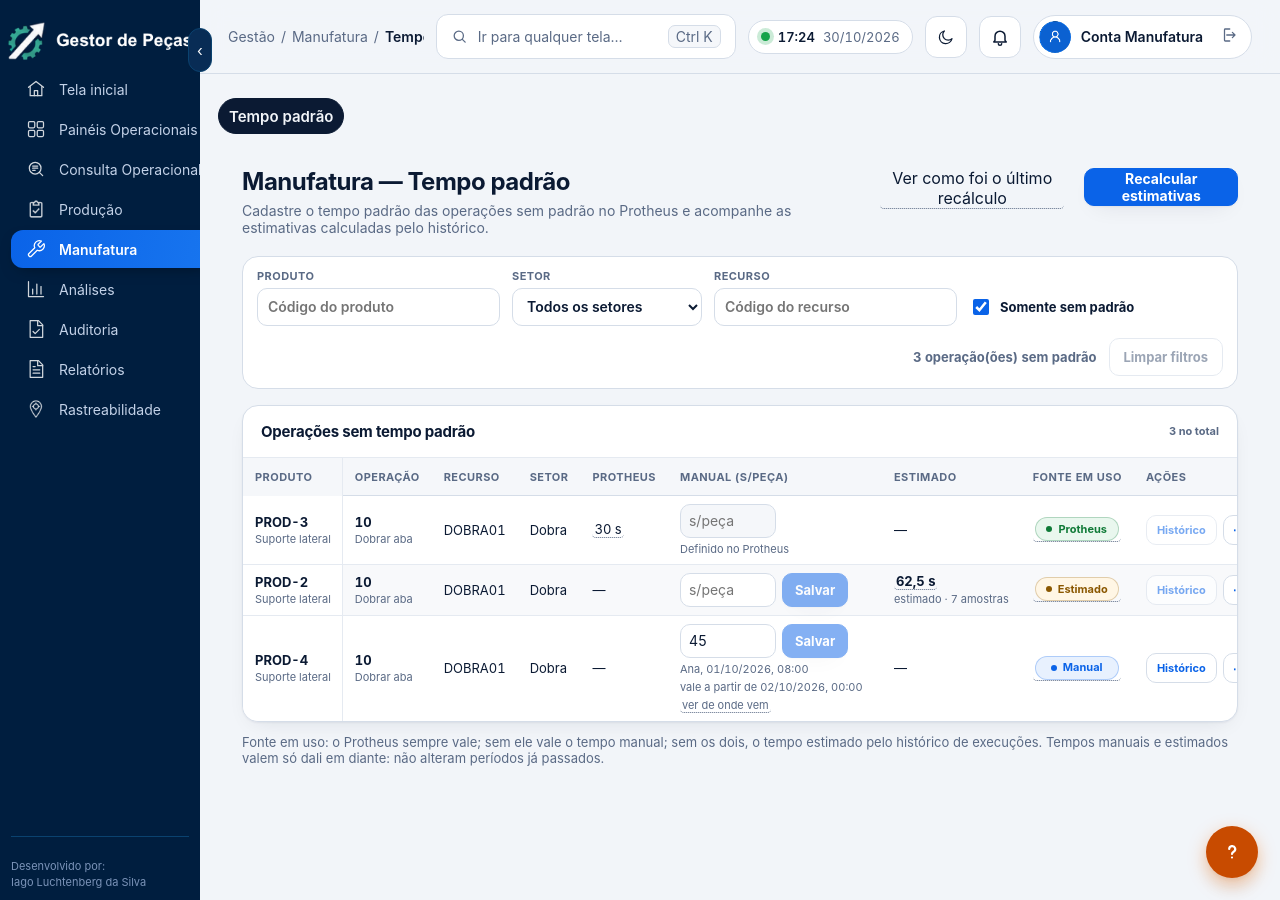
Test case: Tempo padrão: números clicáveis › recusa 403 mostra mensagem de acesso, sem expor erro técnico
The width and height of the screenshot is (1280, 900).
Click the button named "Tempo Protheus 30 s": (608, 530) x1=592 y1=521 x2=624 y2=538
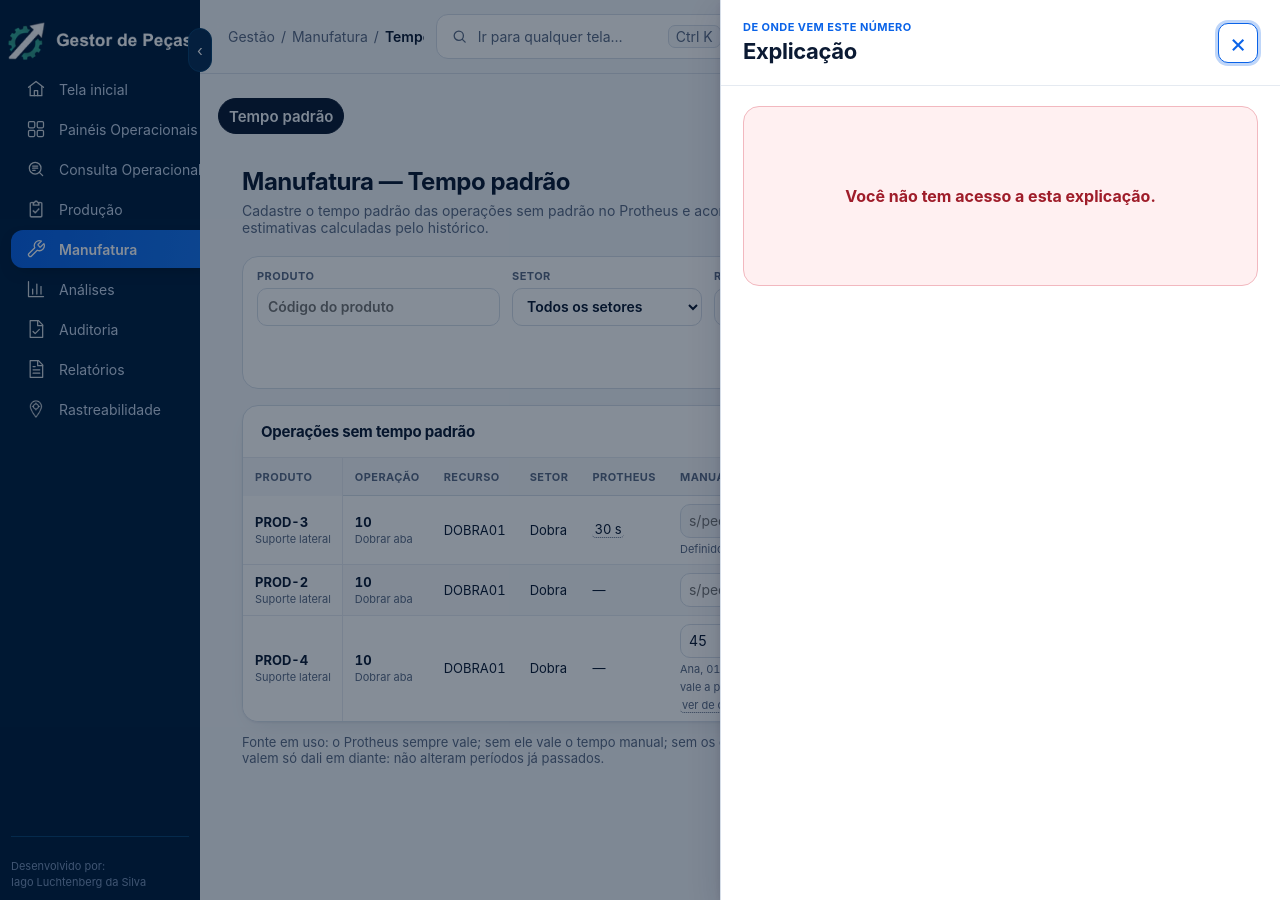
Check: the text "Você não tem acesso a esta explicação." is shown, box x1=845 y1=186 x2=1156 y2=206
